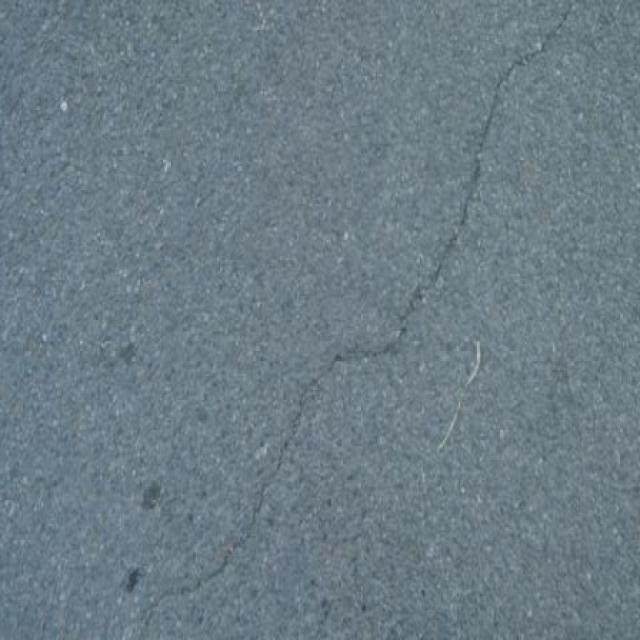Alligator Crack: (137, 0, 581, 640), (434, 332, 485, 453)
